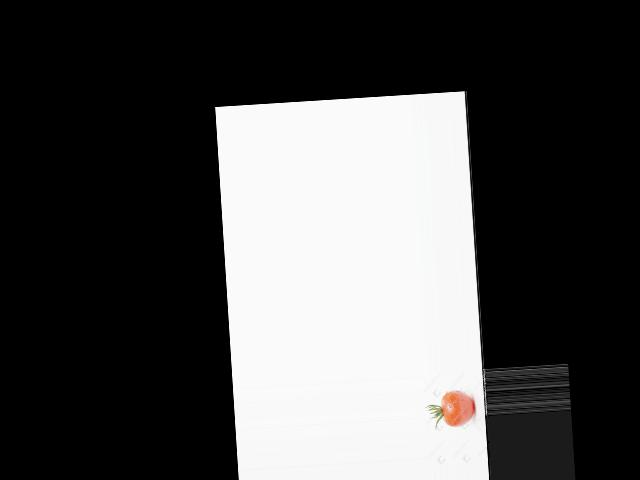tomato: (440, 390, 475, 428)
